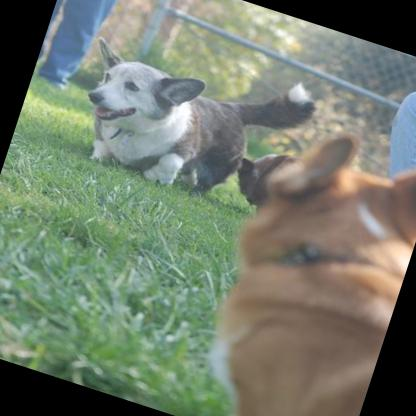Cardigan: (157, 99, 416, 416), (55, 12, 327, 228)
